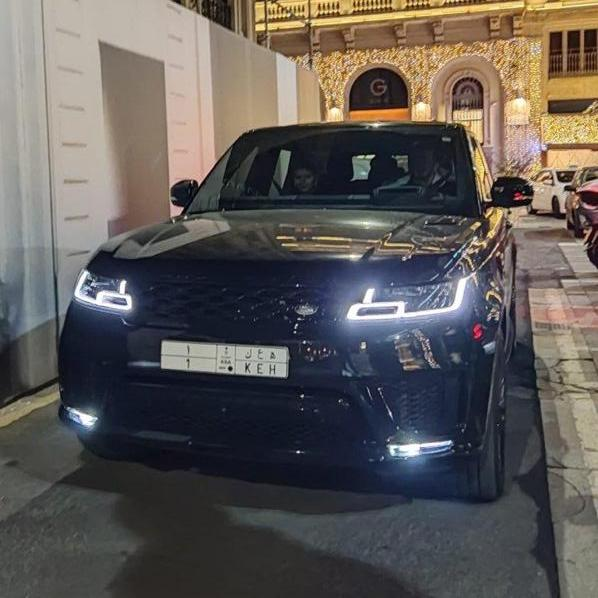numberplate: (160, 341, 288, 376)
